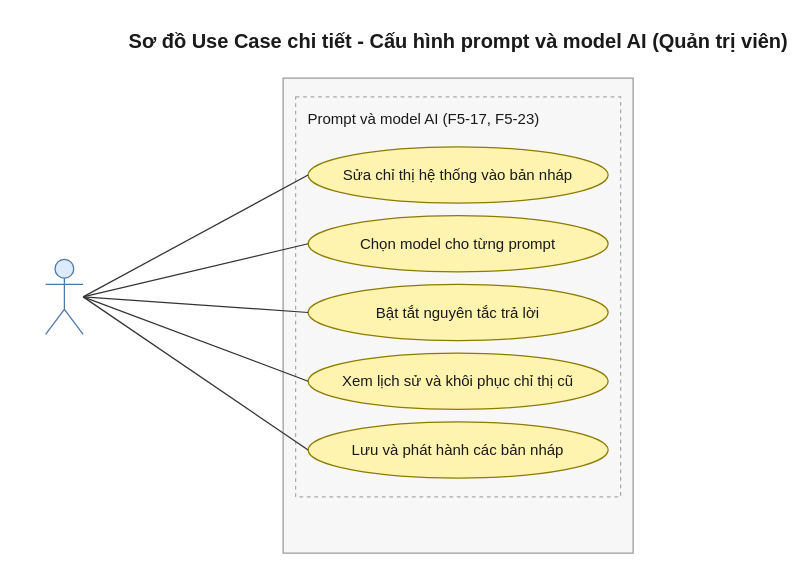
The diagram is 809 pixels wide and 575 high, and some of its shapes have lost their labels. The box of each missing label's shape, as (x1, y1, x2, y2) in pixels:
Cấu hình prompt và model AI: (282, 77, 633, 553)
Quản trị viên: (44, 258, 83, 334)
